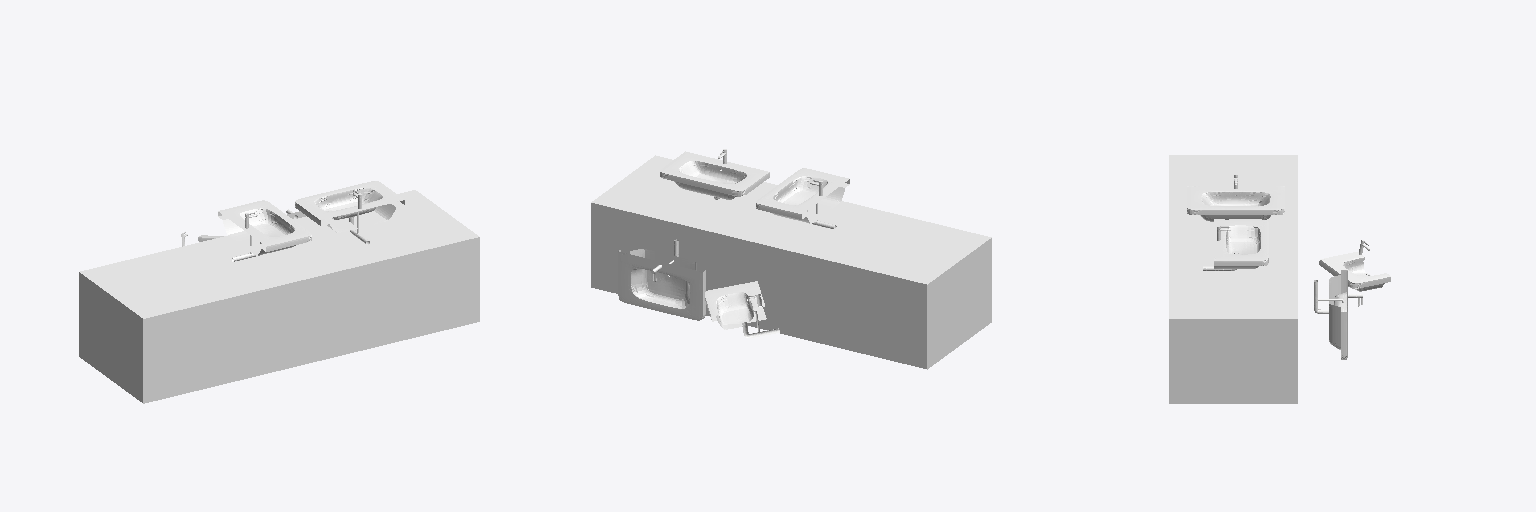
The model's file is 872728_LAVABO.obj.
The picture shows the model from 3 angles: view 1: azimuth 30°, elevation 25°; view 2: azimuth 150°, elevation 25°; view 3: azimuth 270°, elevation 25°; orthographic projection.
Parts seen in each view (by area): view 1: Box001, Plane003, Plane005; view 2: Box001, Plane006, Plane005, Plane003, Plane004; view 3: Box001, Plane005, Plane003, Plane006, Plane004.
Boxes of the visible parts, <box> form: Box001: <box>79,190,479,403</box>; Plane003: <box>295,181,404,244</box>; Plane005: <box>218,200,311,261</box>; Box001: <box>591,155,991,369</box>; Plane006: <box>618,239,705,320</box>; Plane005: <box>756,168,849,229</box>; Plane003: <box>660,149,769,199</box>; Plane004: <box>705,281,779,337</box>; Box001: <box>1169,155,1297,403</box>; Plane005: <box>1187,174,1284,221</box>; Plane003: <box>1203,219,1268,270</box>; Plane006: <box>1314,270,1362,359</box>; Plane004: <box>1319,240,1390,291</box>.
Size of the model in its own units: 3732 by 1402 by 2141.